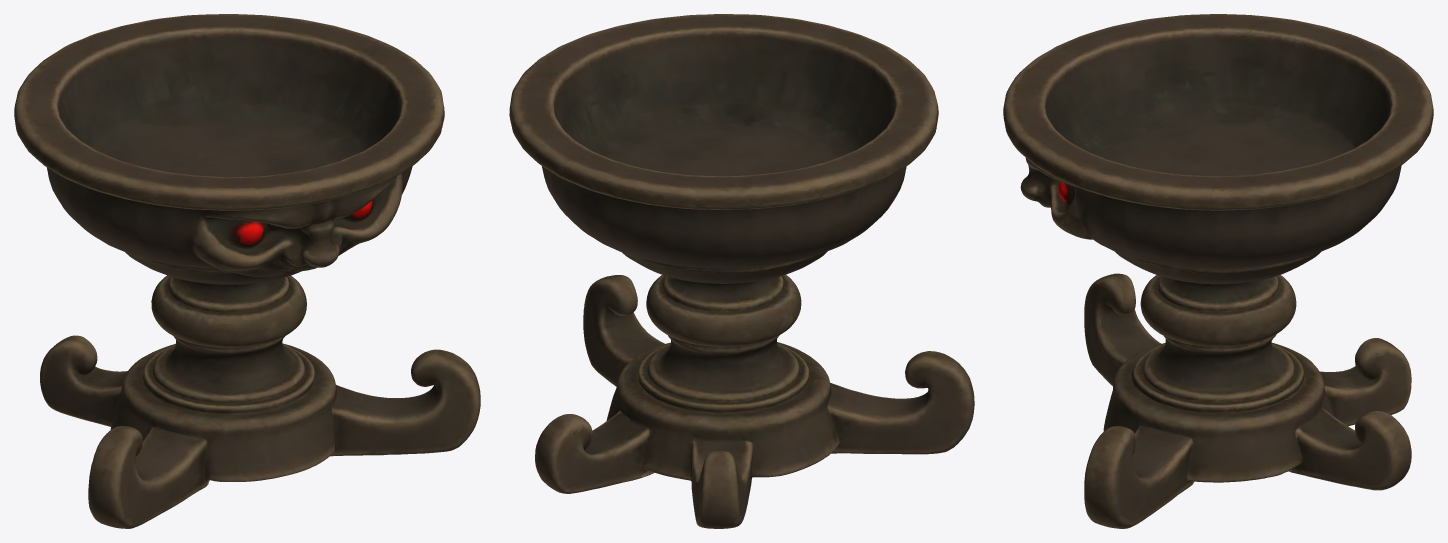
File: SMRTA0_2026-08-19T194747.434.glb
The picture shows the model from 3 angles, left to right: view 1: azimuth 30°, elevation 25°; view 2: azimuth 150°, elevation 25°; view 3: azimuth 270°, elevation 25°; orthographic projection.
Visible parts, largest first — view 1: world; view 2: world; view 3: world.
Part boxes in pixels (x1,y1,x2,y2): world: (14, 14, 480, 528); world: (509, 14, 974, 528); world: (1003, 14, 1433, 528).
Bounding box in the file's own units: 1 × 0.8528 × 0.9654.
1 material, 1 textured.
